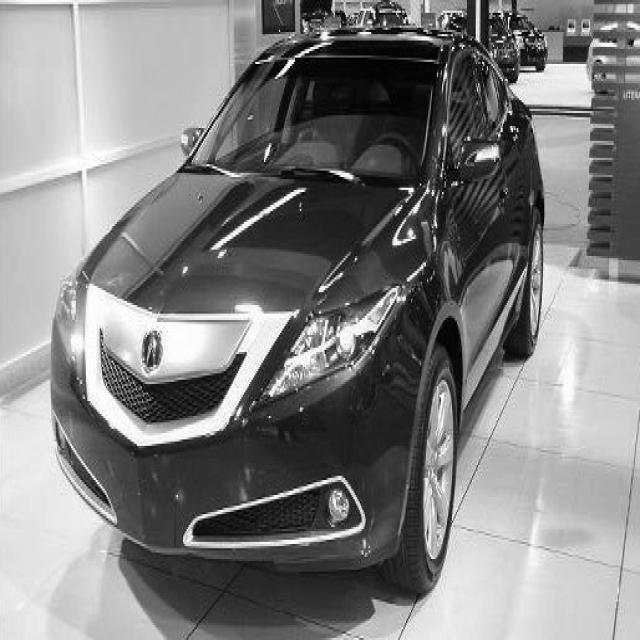car: (50, 22, 545, 596)
